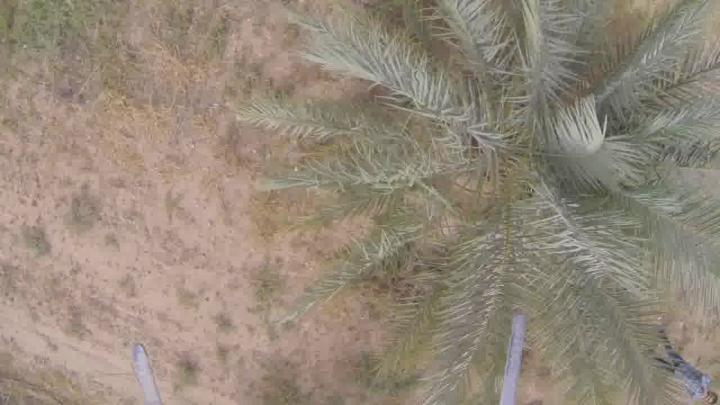Date-Palm-Crown: (328, 6, 672, 304)
